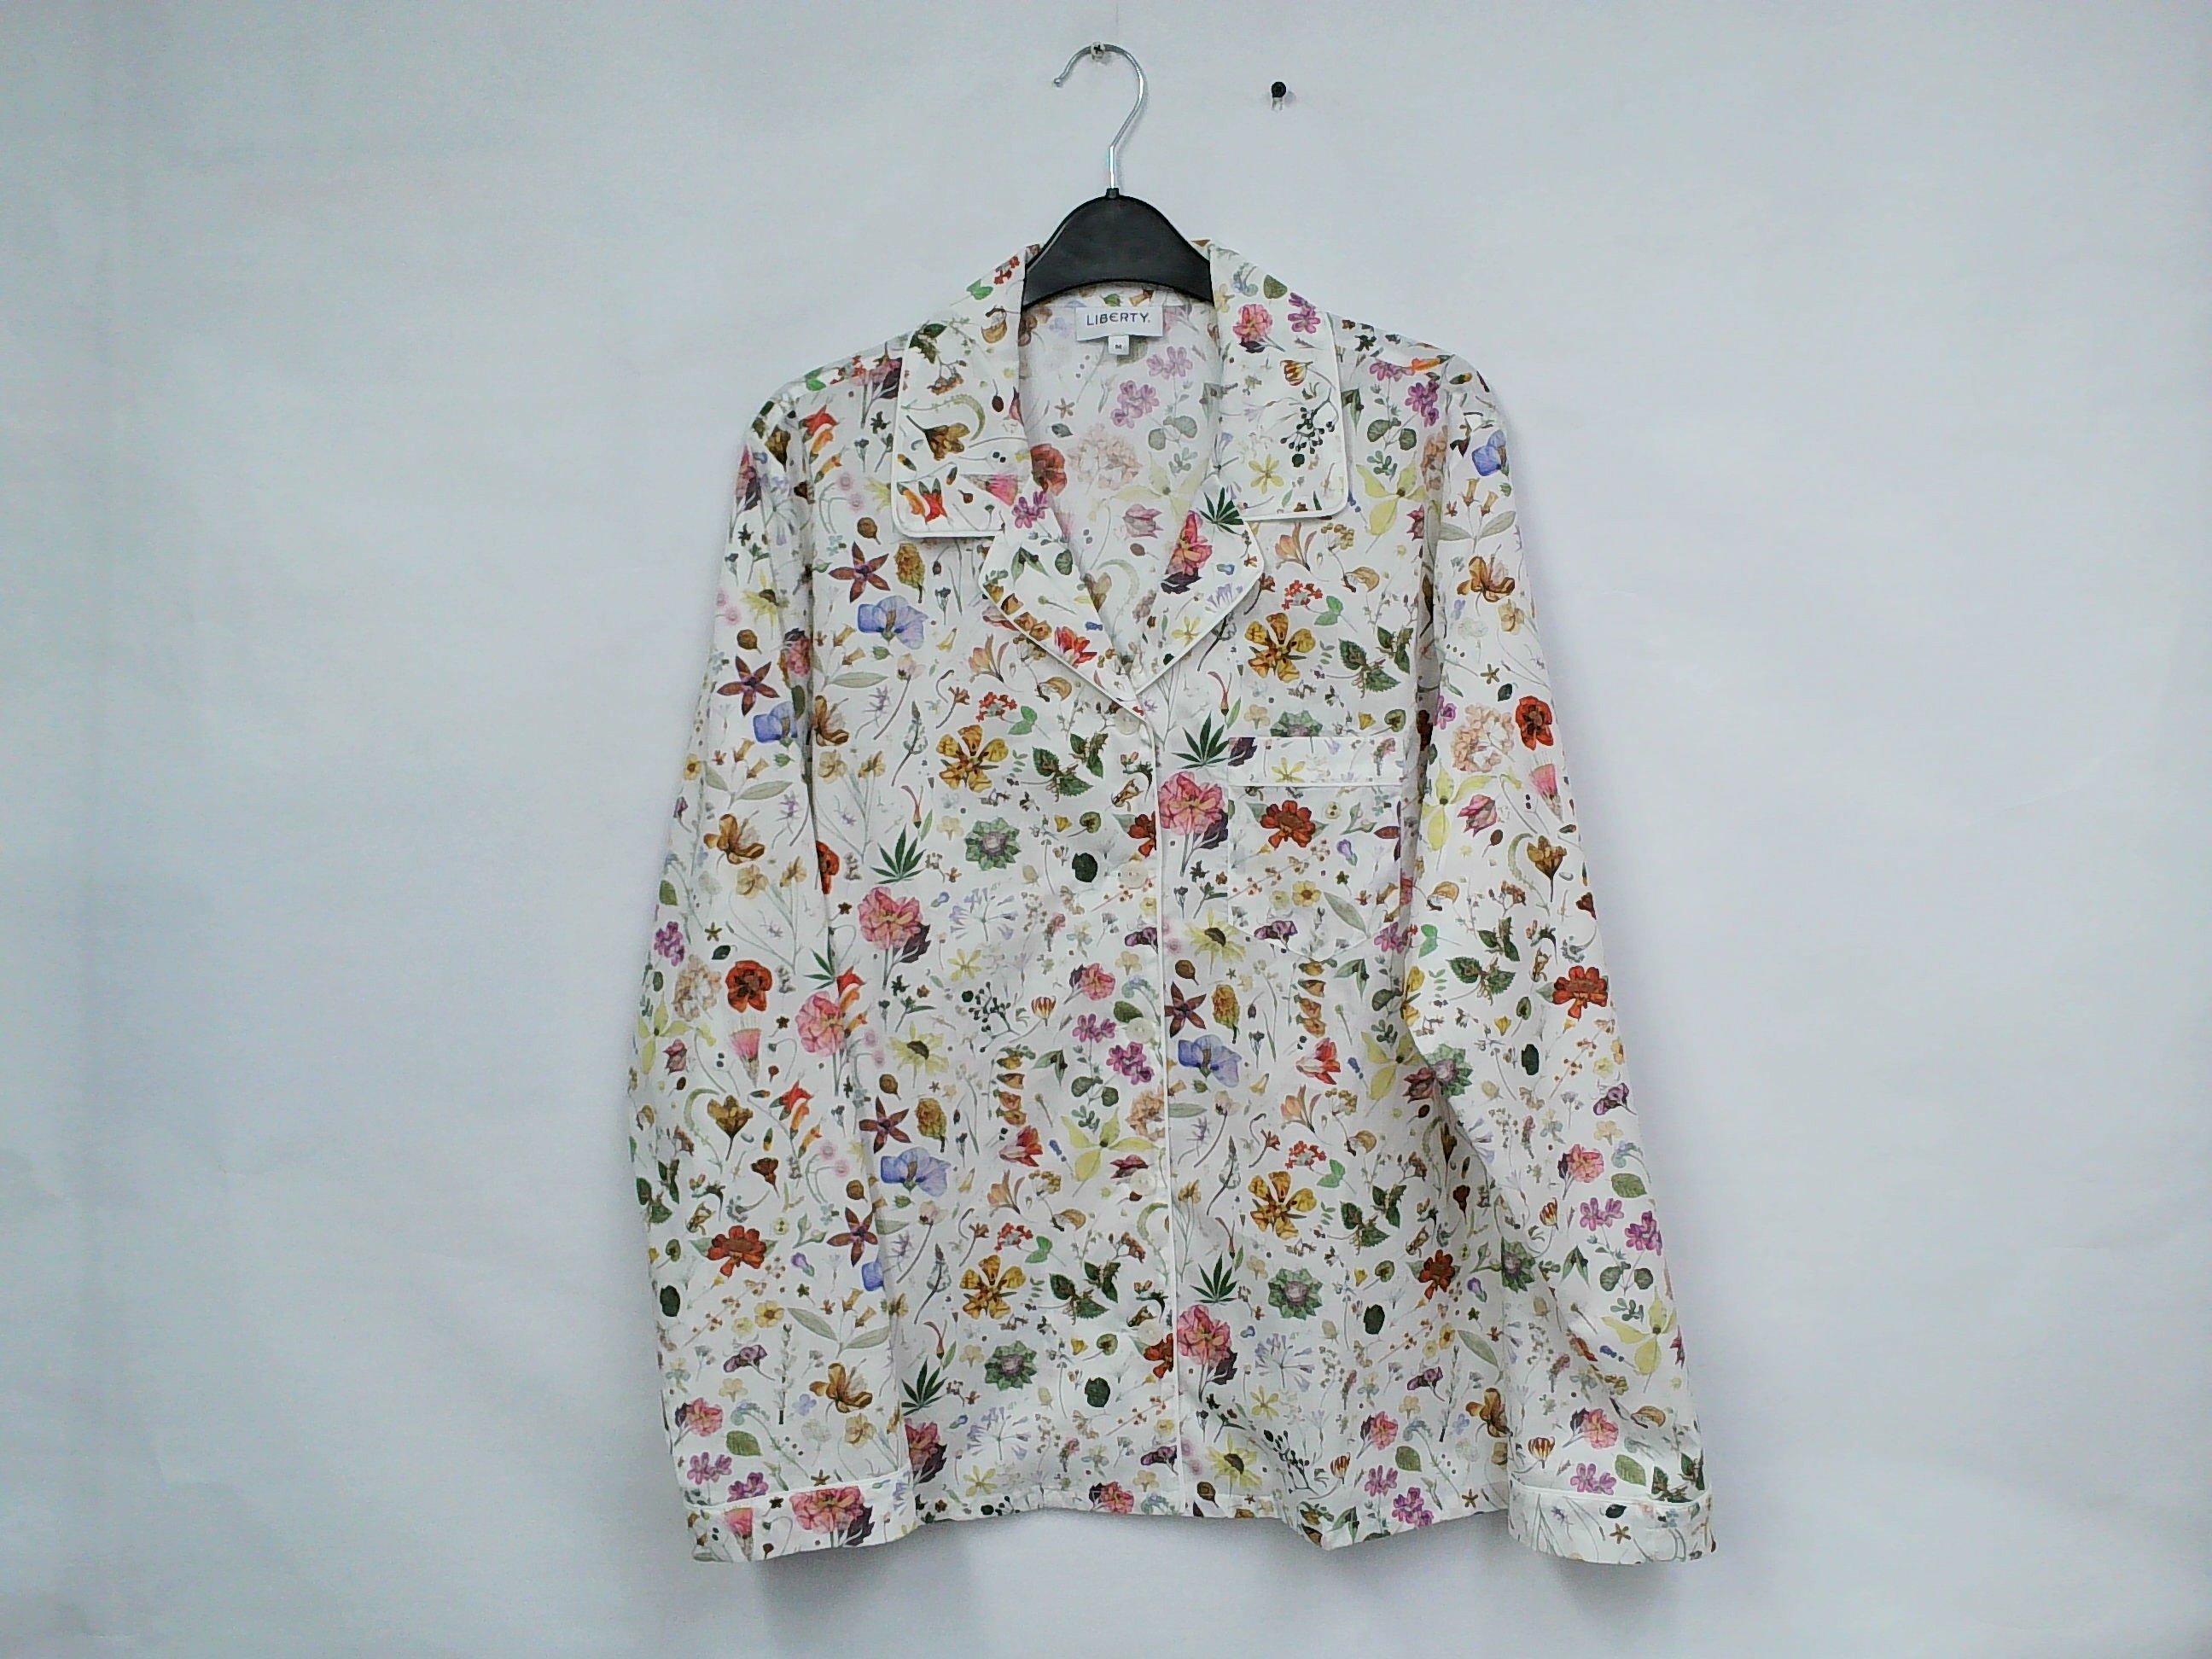deformation: (1496, 1466, 1726, 1540)
